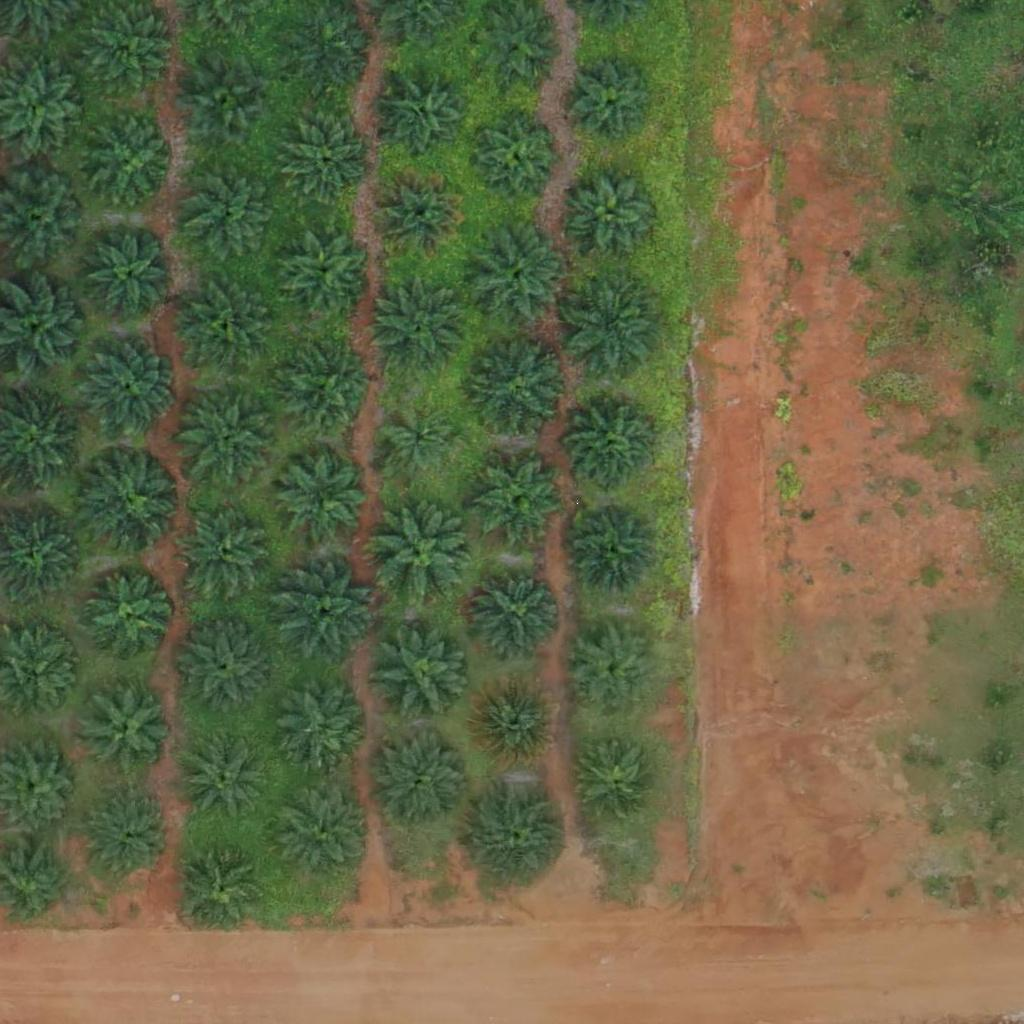Kelapa_Sawit: (375, 504, 475, 605), (275, 224, 375, 325), (276, 340, 376, 441), (274, 564, 374, 665), (181, 160, 281, 261), (178, 277, 278, 378), (177, 386, 277, 487), (176, 503, 276, 604), (174, 619, 274, 720), (77, 337, 177, 438), (82, 450, 182, 551), (271, 777, 371, 878), (373, 625, 473, 726), (371, 729, 471, 830), (470, 783, 570, 884), (560, 274, 660, 374), (465, 226, 565, 326), (467, 340, 567, 440), (370, 278, 470, 378), (184, 60, 272, 148), (569, 59, 657, 147), (570, 169, 658, 257), (477, 456, 565, 544), (471, 566, 559, 654), (284, 116, 372, 204), (84, 574, 172, 662), (84, 687, 172, 775), (86, 793, 174, 881), (182, 733, 270, 821), (179, 843, 267, 931), (471, 677, 559, 765), (576, 740, 664, 828), (475, 1, 562, 89), (380, 73, 467, 161), (570, 406, 657, 494), (571, 503, 658, 591), (570, 629, 657, 717), (472, 112, 559, 200), (376, 170, 463, 258), (279, 452, 366, 540), (84, 119, 171, 207), (87, 234, 174, 322), (286, 680, 373, 768), (382, 406, 457, 482)
